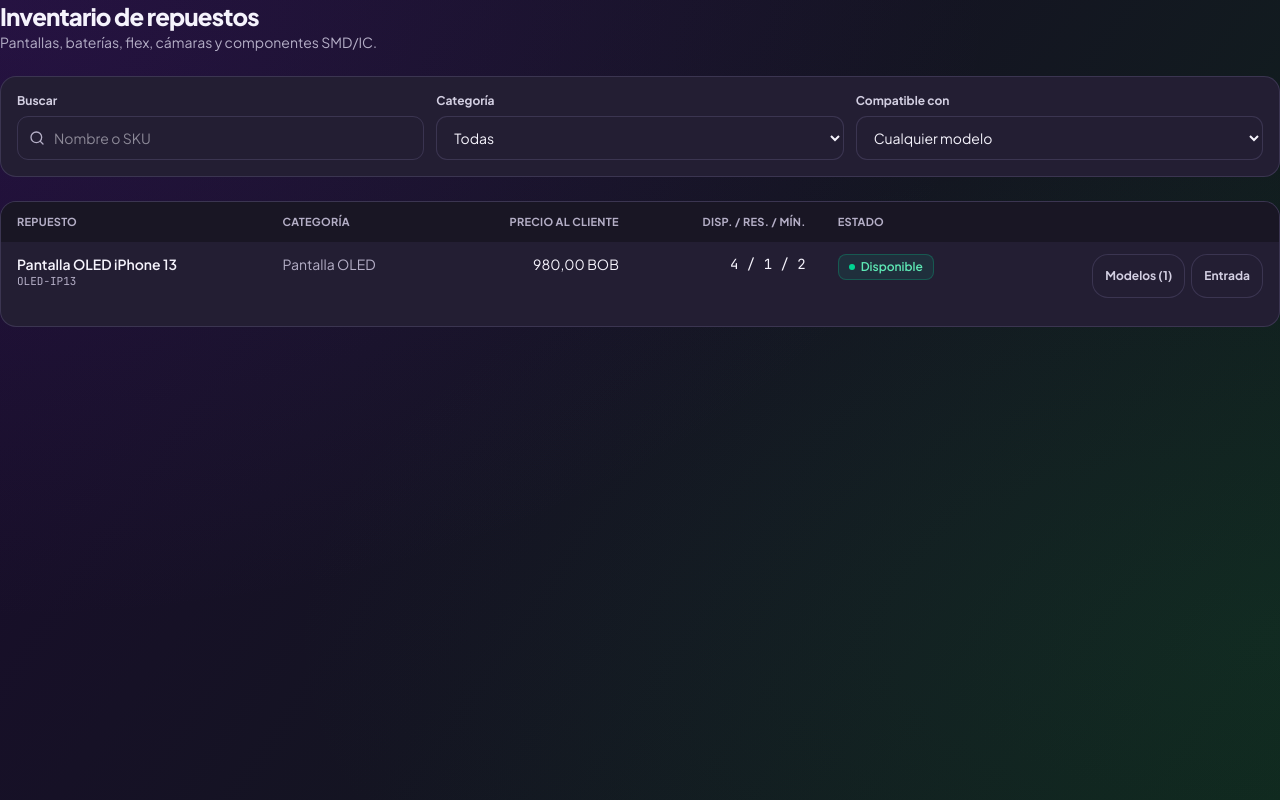
Scenario: InventoryPage (US-F11 / US-F12) › registers a stock entry and shows backend errors [006/RF-4.1]
The width and height of the screenshot is (1280, 800).
Click the button "Entrada" at point(1227, 276), box [1191,254,1263,298]
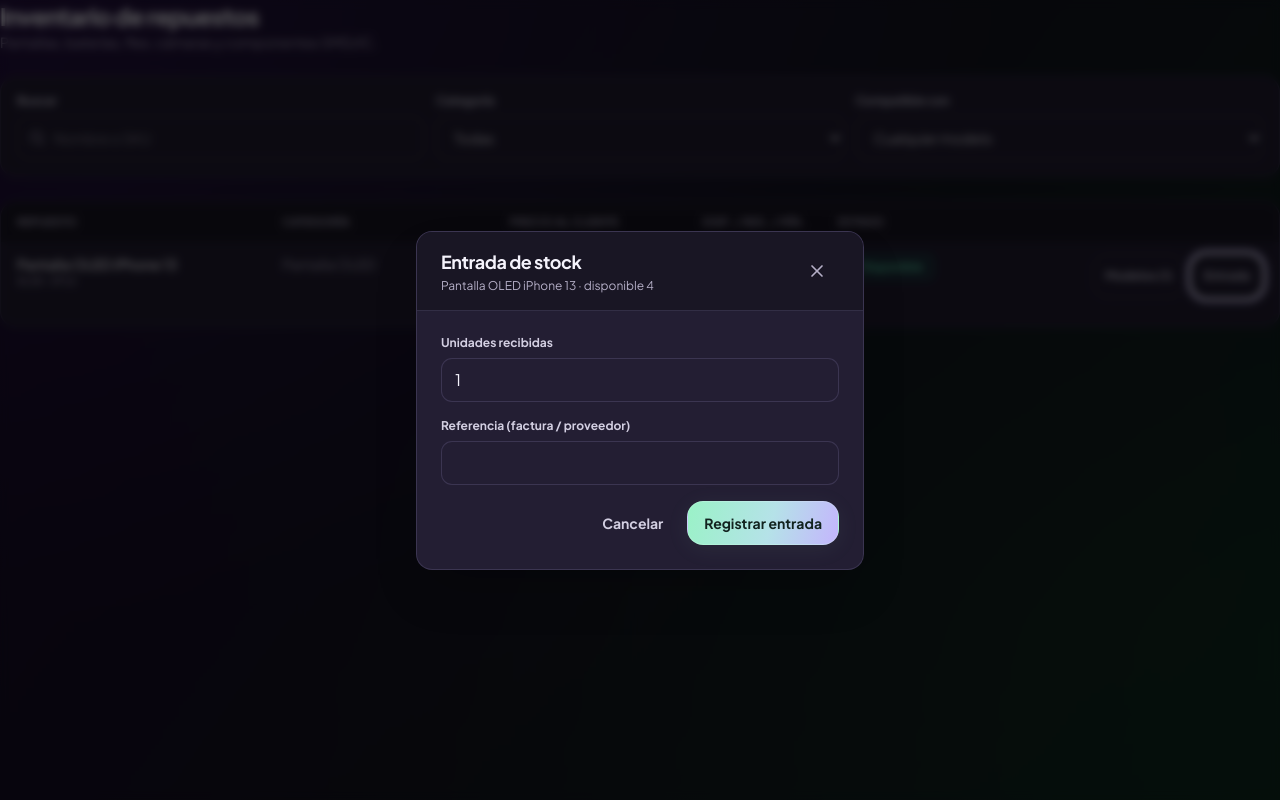
Result: the text "Pantalla OLED iPhone 13 · disponible 4" is shown at [441,278,654,294]
Replace the text in the number field labelled "Unidades recibidas" with "10" at point(640, 380), box [441,358,839,402]
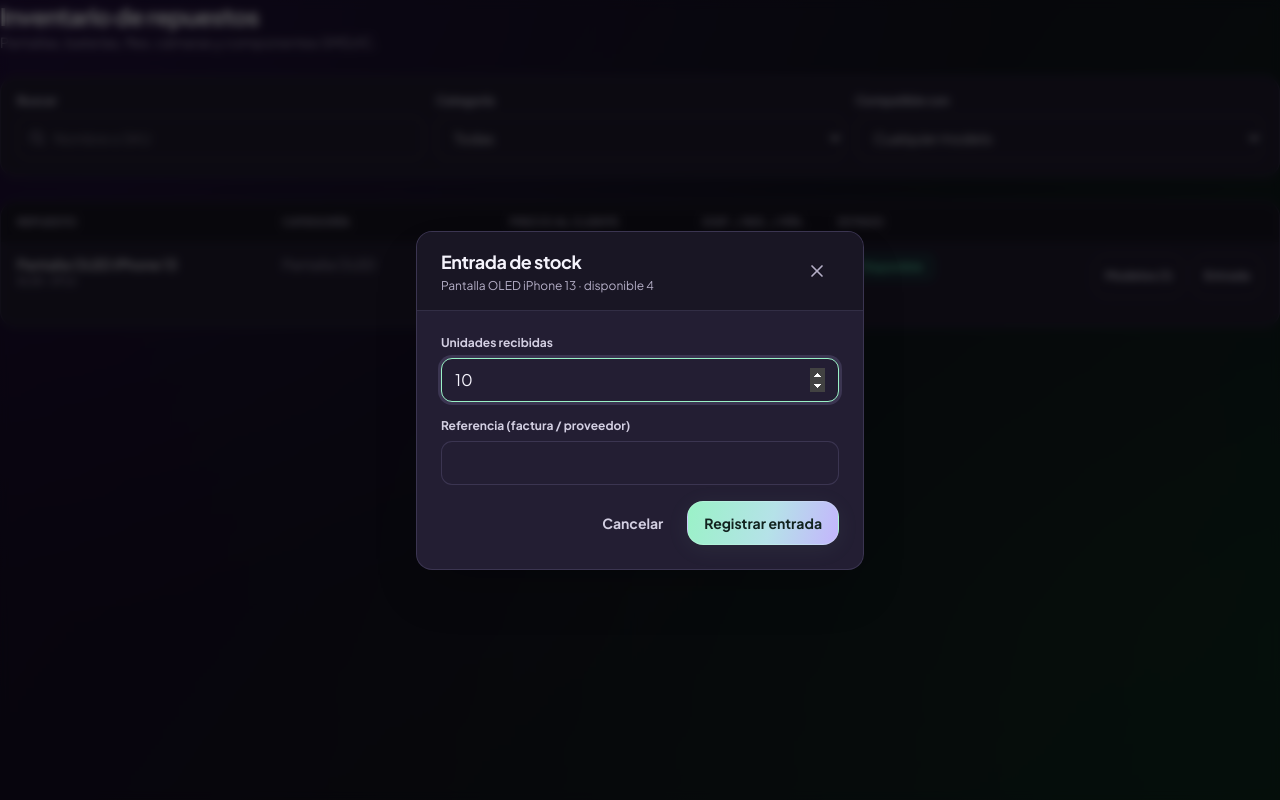
Click the button "Registrar entrada" at point(763, 522), box [687,500,839,544]
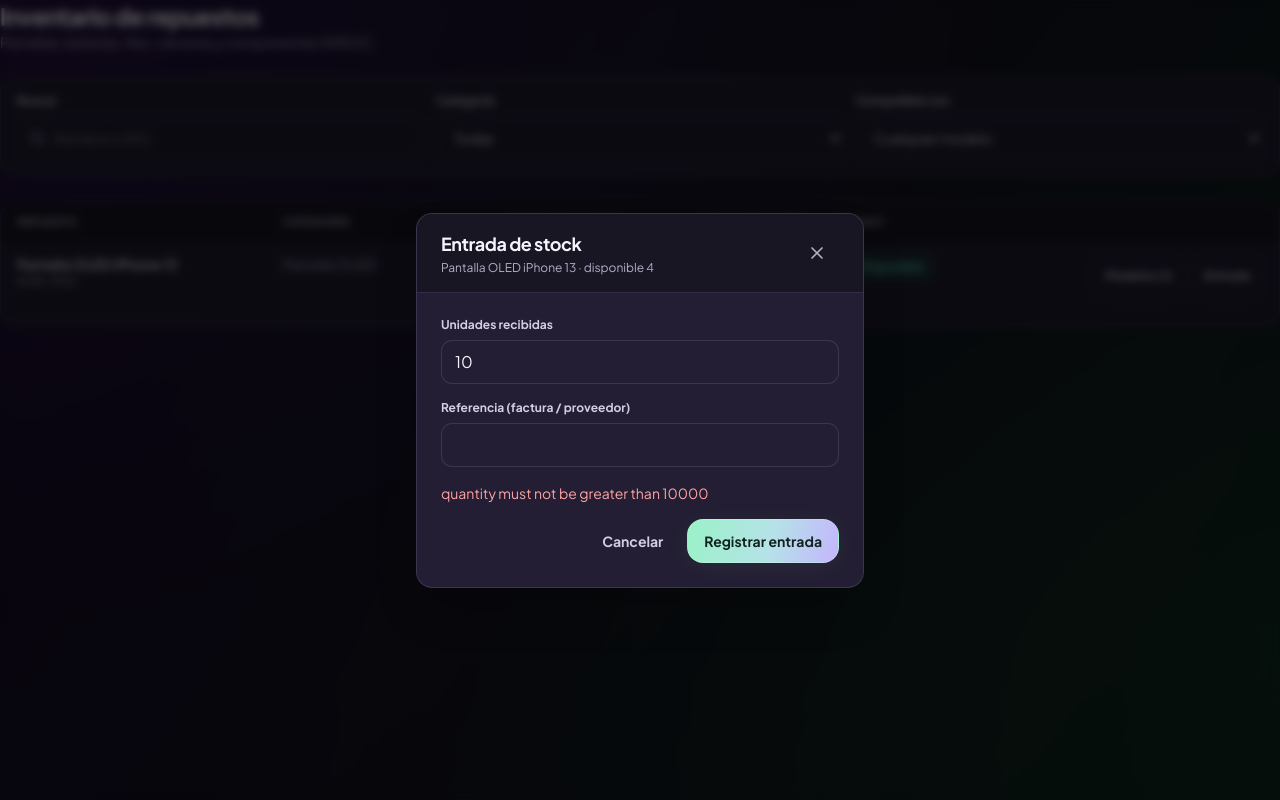
Result: the message reads "quantity must not be greater than 10000" at [441,484,708,502]
Type "Factura 991" into the field labelled "Referencia (factura / proveedor)" at point(640, 444), box [441,422,839,466]
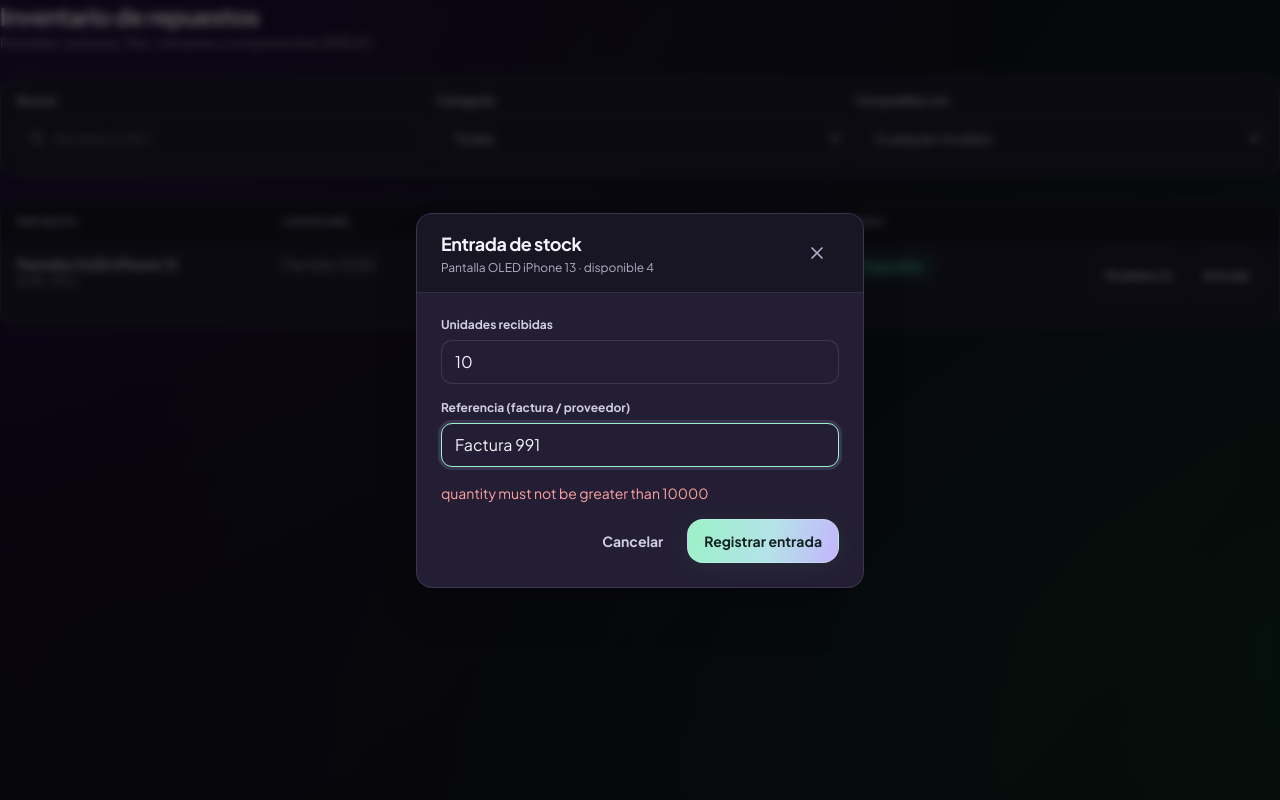
Click the button "Registrar entrada" at point(763, 540), box [687,518,839,562]
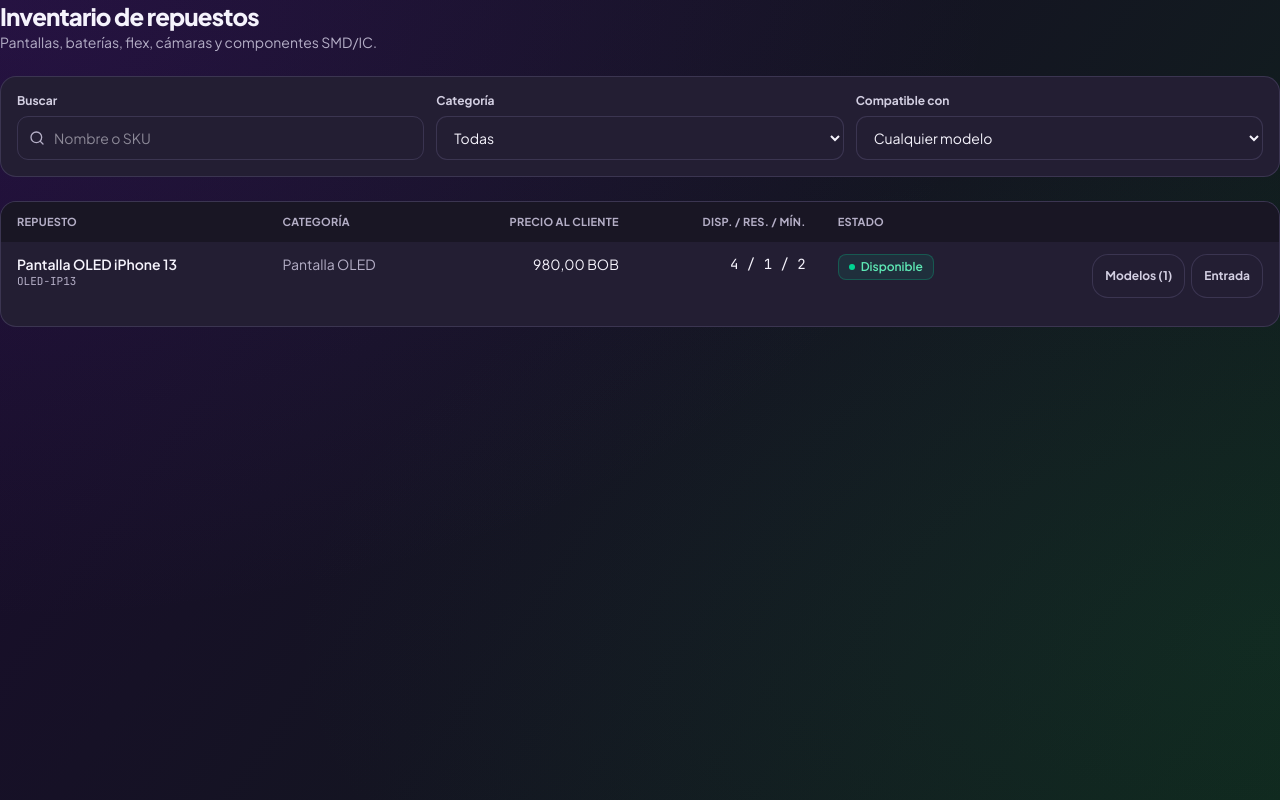
Result: the dialog is gone
